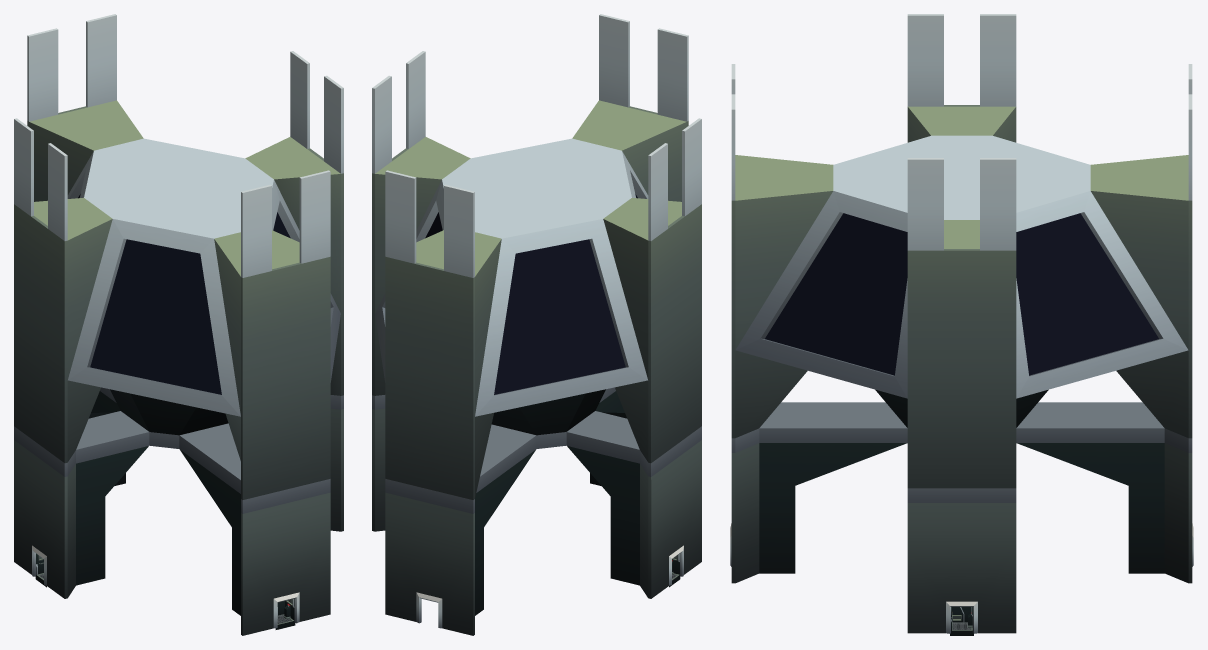
The model's file is tower-exterior.glb.
The picture shows the model from 3 angles, left to right: view 1: azimuth 30°, elevation 25°; view 2: azimuth 150°, elevation 25°; view 3: azimuth 270°, elevation 25°; orthographic projection. The views are drawn at different scales.
Visible parts, largest first — view 1: exterior, exterior_windows, exterior_carbon; view 2: exterior, exterior_windows, exterior_carbon; view 3: exterior, exterior_windows, exterior_carbon.
Boxes of the visible parts, <box> form: exterior: <box>14,14,343,635</box>; exterior_windows: <box>78,194,290,394</box>; exterior_carbon: <box>76,389,240,615</box>; exterior: <box>372,14,701,635</box>; exterior_windows: <box>425,194,637,394</box>; exterior_carbon: <box>475,389,639,615</box>; exterior: <box>730,14,1193,633</box>; exterior_windows: <box>765,213,1158,375</box>; exterior_carbon: <box>759,389,1164,573</box>.
Size of what is drawn, in the model's own units: 47.96 by 72.73 by 63.96.
5 materials, 3 textured.
